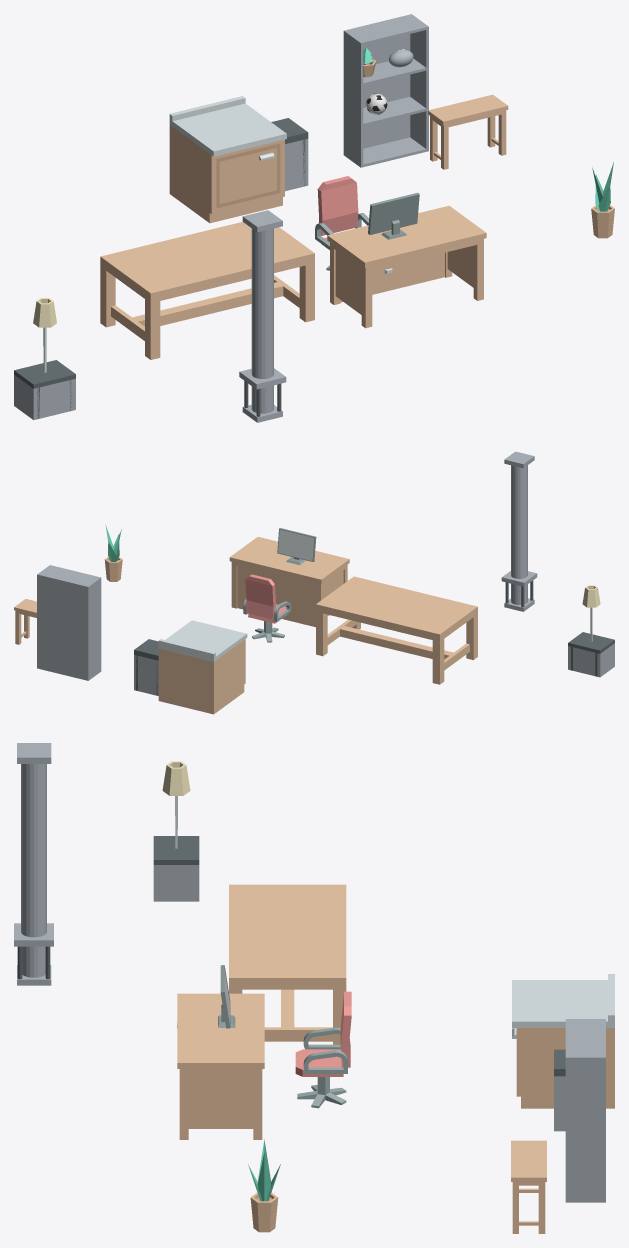
3 views of the same model, one above another, from view 1: azimuth 30°, elevation 25°; view 2: azimuth 150°, elevation 25°; view 3: azimuth 270°, elevation 25° (orthographic). The views are drawn at different scales.
Visible parts, largest first — view 1: table_green__table(Clone), desk_blue__desk(Clone), cabinet_blue__kitchenCabinet(Clone), column_cyan__column_cyan shaft, cabinet_blue__door, sidetable_brown__sideTable(Clone), shelf_orange__shelf_orange back, shelf_orange__shelf_orange side_l, deskchair_black__chair, crate_red__crate_red shell, shelf_orange__shelf_orange side_r, monitor_gray__computerScreen(Clone) (+9 smaller); view 2: table_green__table(Clone), cabinet_blue__kitchenCabinet(Clone), desk_blue__desk(Clone), shelf_orange__shelf_orange back, column_cyan__column_cyan shaft, deskchair_black__chair, shelf_orange__shelf_orange side_l, monitor_gray__computerScreen(Clone), crate_red__crate_red shell, bin_gray__bin_gray shell, sidetable_brown__sideTable(Clone), shelf_orange__shelf_orange board3 (+3 smaller); view 3: table_green__table(Clone), desk_blue__desk(Clone), cabinet_blue__kitchenCabinet(Clone), shelf_orange__shelf_orange side_r, column_cyan__column_cyan shaft, sidetable_brown__sideTable(Clone), deskchair_black__chair, crate_red__crate_red shell, shelf_orange__shelf_orange board3, crate_red__crate_red lid, lamp_white__lampRoundFloor(Clone), plant_pink__pottedPlant(Clone) (+4 smaller).
Part boxes in pixels (x1,y1,x2,y2): table_green__table(Clone): [100, 221, 314, 359]; desk_blue__desk(Clone): [327, 205, 486, 328]; cabinet_blue__kitchenCabinet(Clone): [169, 96, 286, 223]; column_cyan__column_cyan shaft: [251, 228, 273, 413]; cabinet_blue__door: [216, 143, 280, 208]; sidetable_brown__sideTable(Clone): [428, 94, 508, 169]; shelf_orange__shelf_orange back: [346, 15, 410, 148]; shelf_orange__shelf_orange side_l: [343, 30, 363, 167]; deskchair_black__chair: [315, 176, 368, 249]; crate_red__crate_red shell: [14, 375, 75, 419]; shelf_orange__shelf_orange side_r: [409, 14, 428, 151]; monitor_gray__computerScreen(Clone): [368, 192, 419, 239]; table_green__table(Clone): [316, 576, 477, 684]; cabinet_blue__kitchenCabinet(Clone): [158, 620, 247, 714]; desk_blue__desk(Clone): [229, 537, 349, 627]; shelf_orange__shelf_orange back: [39, 574, 86, 680]; column_cyan__column_cyan shaft: [511, 465, 527, 604]; deskchair_black__chair: [243, 574, 291, 623]; shelf_orange__shelf_orange side_l: [86, 577, 101, 680]; monitor_gray__computerScreen(Clone): [277, 528, 316, 564]; crate_red__crate_red shell: [568, 643, 614, 677]; bin_gray__bin_gray shell: [134, 655, 158, 695]; sidetable_brown__sideTable(Clone): [14, 599, 36, 644]; shelf_orange__shelf_orange board3: [40, 565, 98, 585]; table_green__table(Clone): [229, 884, 346, 1044]; desk_blue__desk(Clone): [177, 993, 264, 1139]; cabinet_blue__kitchenCabinet(Clone): [512, 974, 614, 1108]; shelf_orange__shelf_orange side_r: [565, 1056, 605, 1202]; column_cyan__column_cyan shaft: [21, 764, 46, 977]; sidetable_brown__sideTable(Clone): [511, 1140, 546, 1233]; deskchair_black__chair: [295, 991, 351, 1076]; crate_red__crate_red shell: [153, 865, 199, 901]; shelf_orange__shelf_orange board3: [565, 1020, 603, 1055]; crate_red__crate_red lid: [153, 836, 199, 864]; lamp_white__lampRoundFloor(Clone): [162, 761, 190, 848]; plant_pink__pottedPlant(Clone): [250, 1192, 278, 1232].
Bounding box in the file's own units: 7.39 × 2.2 × 5.25.
